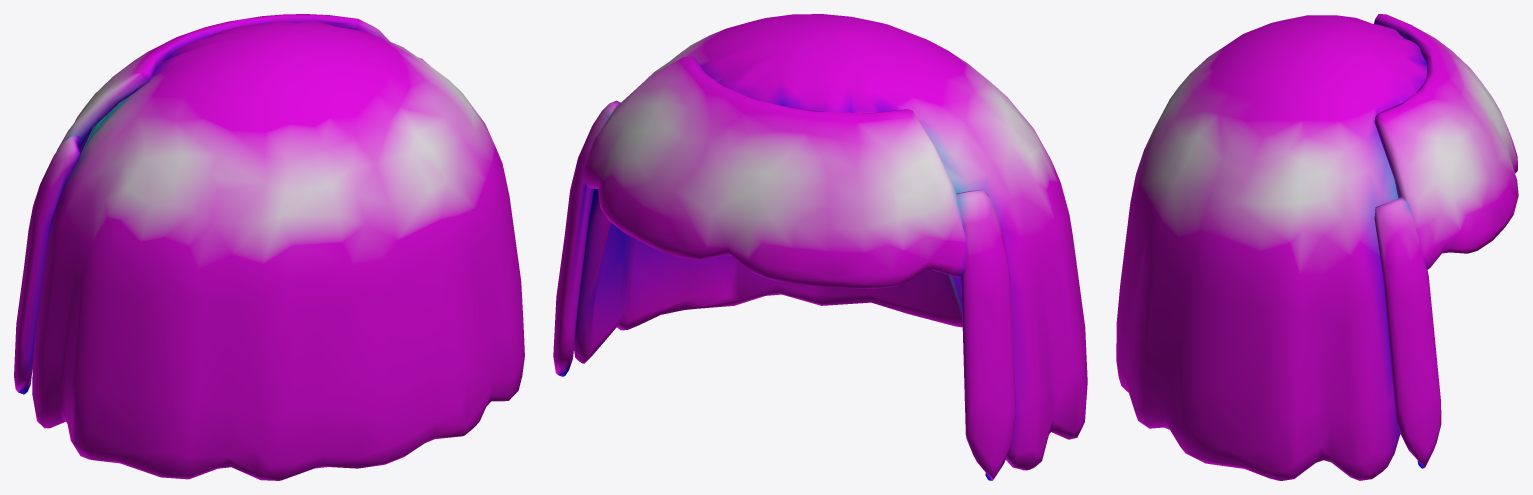
File: bob_mid.glb
The picture shows the model from 3 angles, left to right: view 1: azimuth 30°, elevation 25°; view 2: azimuth 150°, elevation 25°; view 3: azimuth 270°, elevation 25°; orthographic projection. The views are drawn at different scales.
Visible parts, largest first — view 1: bob; view 2: bob; view 3: bob.
Boxes of the visible parts, <box> form: bob: <box>14,14,524,480</box>; bob: <box>553,14,1087,480</box>; bob: <box>1116,14,1518,480</box>.
Size of the model in its own units: 0.9108 by 0.6895 by 0.7364.
